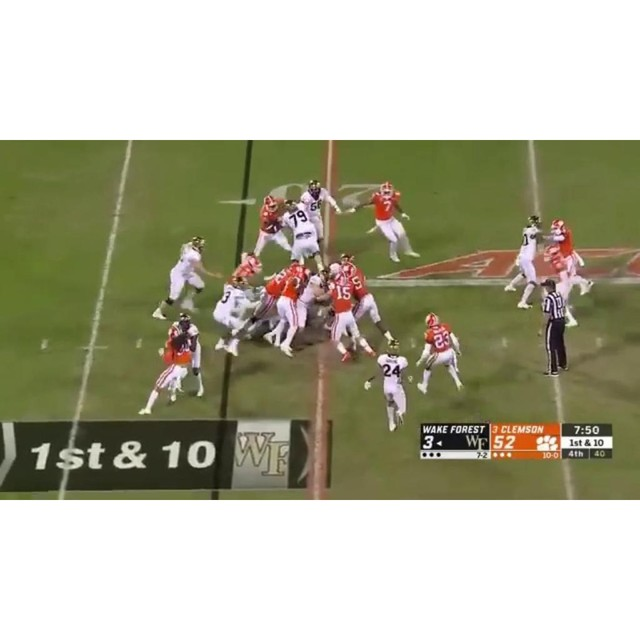american-football-player: (342, 262, 398, 349), (152, 236, 208, 321), (325, 272, 375, 363), (368, 181, 419, 263), (138, 340, 192, 416), (265, 269, 308, 356), (418, 315, 464, 396), (504, 214, 543, 309), (298, 179, 342, 260), (373, 341, 410, 435), (281, 199, 324, 274), (549, 218, 591, 294), (213, 277, 253, 356), (250, 193, 292, 262), (177, 315, 206, 399)
referee: (540, 277, 578, 378)
